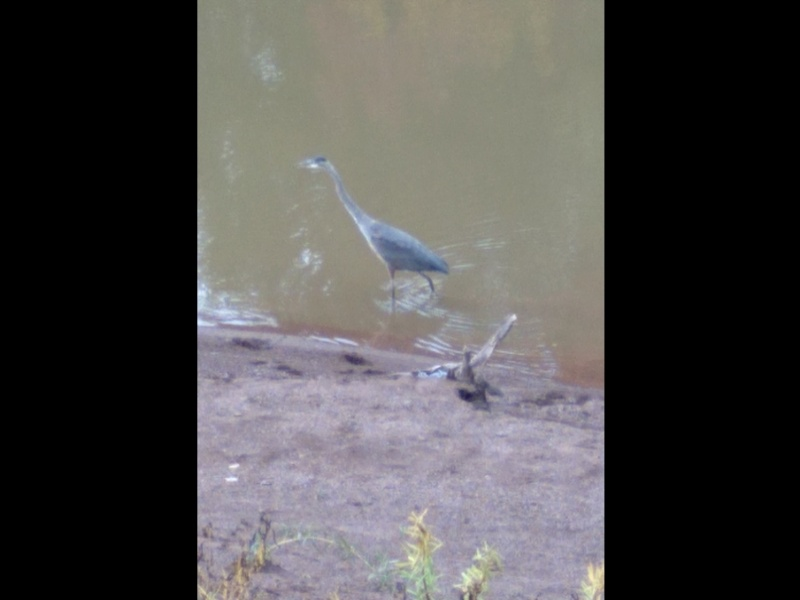heron: (297, 150, 457, 323)
